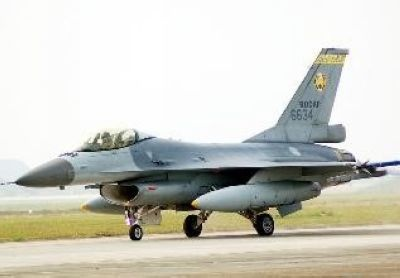airplane: (6, 46, 393, 240)
